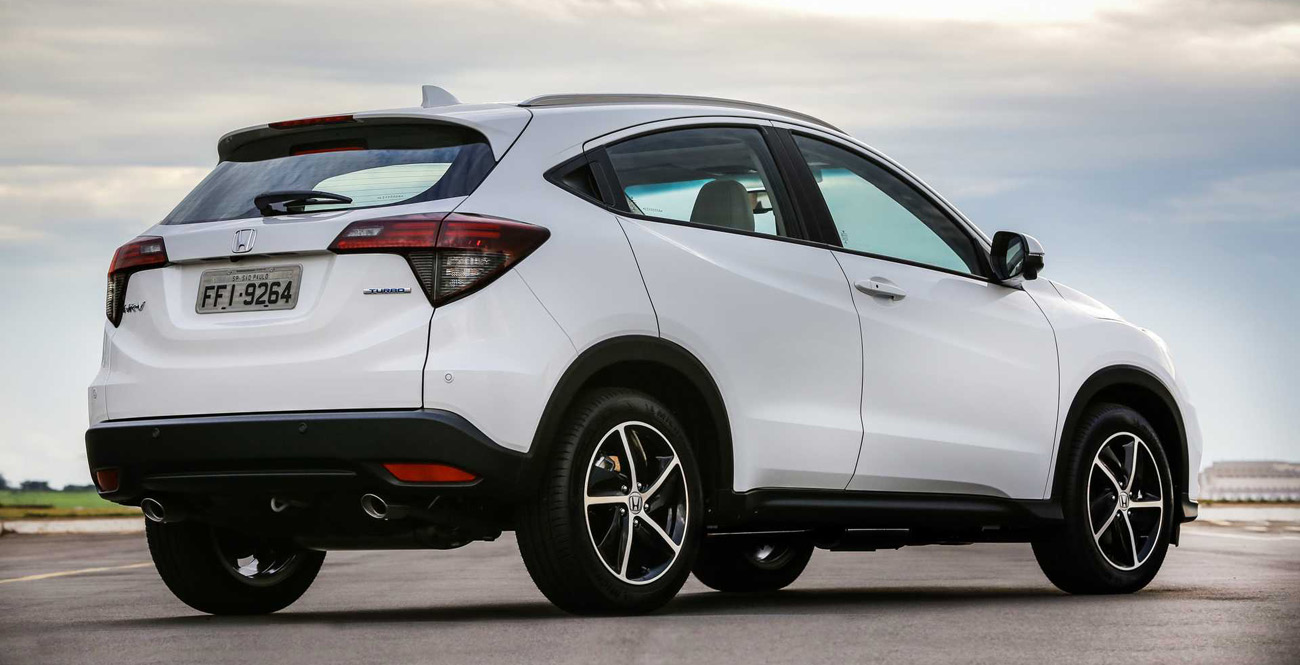car: (76, 82, 1208, 615)
car_plate: (191, 262, 305, 313)
